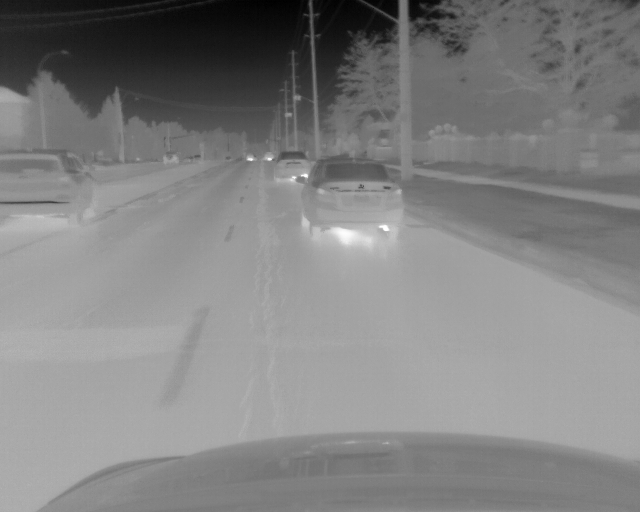car: (295, 158, 405, 241), (6, 147, 100, 230), (272, 151, 310, 182), (162, 153, 179, 165)
